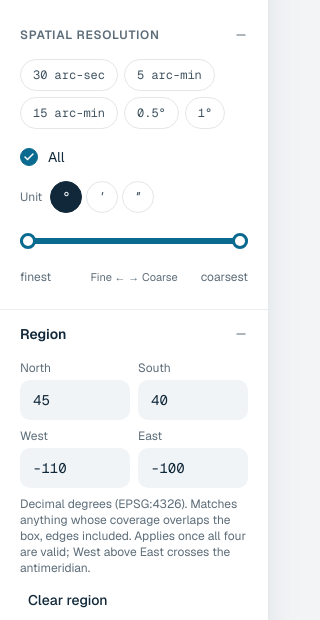
Test: CatalogueSidebar region › refuses a south above the north, on South, and applies once it is fixed
(page scrolled)
Replace the text in the field labelled "South" with "50": (193, 400) [138,380,248,420]
(page scrolled)
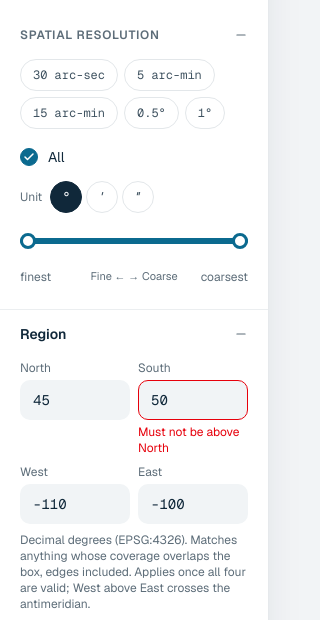
expect the text "Must not be above North" is shown: met, box [138,424,248,456]
Replace the text in the field labelled "South" with "44": (193, 400) [138,380,248,420]
(page scrolled)
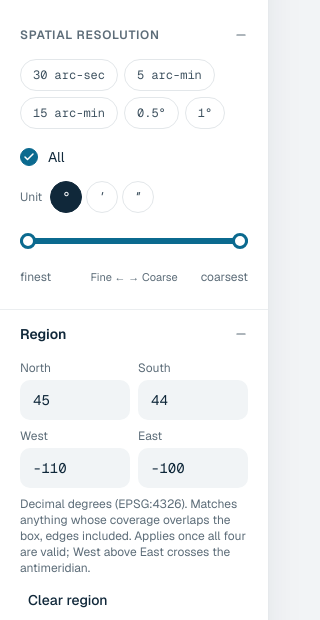
expect the text "Must not be above North" is gone: met
